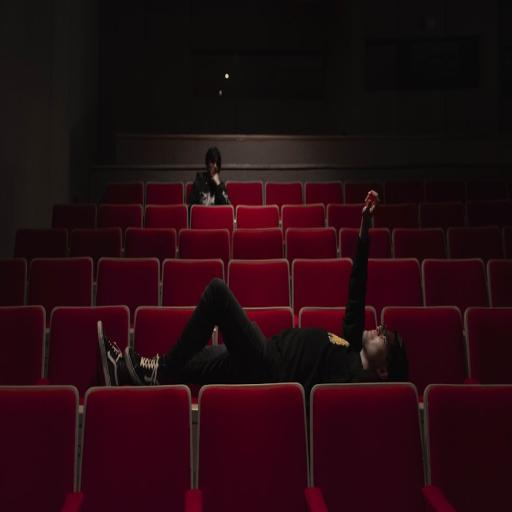face: (363, 326, 393, 367), (208, 161, 218, 179)
